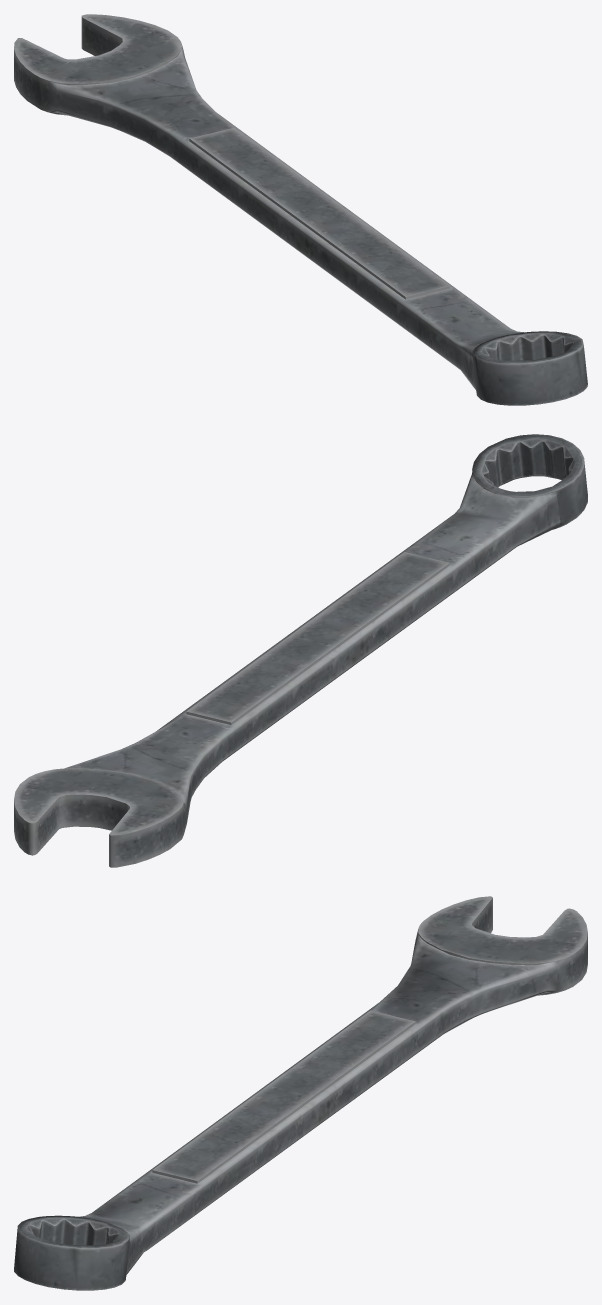
Rendered from combination_wrench.glb.
The picture shows the model from 3 angles, top to bottom: view 1: azimuth 30°, elevation 25°; view 2: azimuth 150°, elevation 25°; view 3: azimuth 330°, elevation 25°; orthographic projection.
Parts seen in each view (by area): view 1: combination_wrench; view 2: combination_wrench; view 3: combination_wrench.
Boxes of the visible parts, x1,y1,x2,y2 form: combination_wrench: (14,14,587,405); combination_wrench: (14,434,587,867); combination_wrench: (14,896,587,1290).
Size of the model in its own units: 0.0566 by 0.0213 by 0.3368.
1 material, 1 textured.
